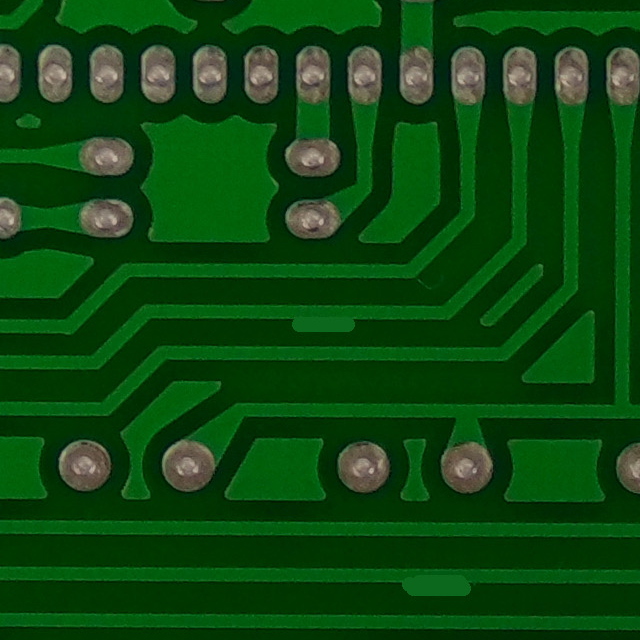spur: (376, 554, 492, 614), (278, 297, 363, 343)
